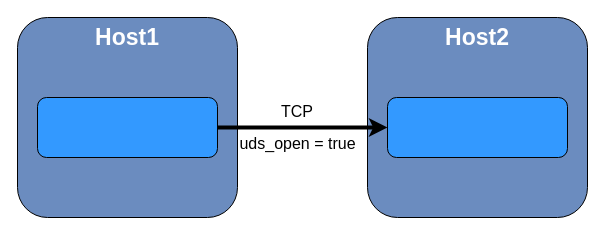
Image size: 605x235. Some labels were removed from this diagram. Each missing label, with the centre of its shape:
"chainmaker" belongs at pixel 127 127.
"docker vm" belongs at pixel 477 127.
